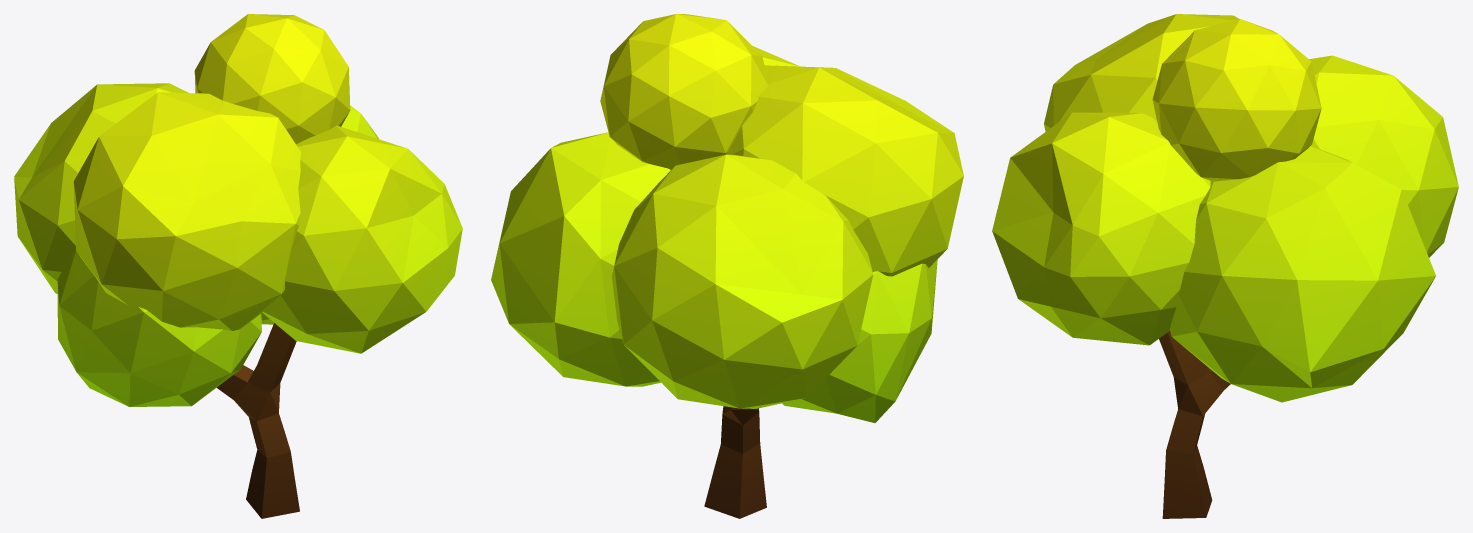
The picture shows the model from 3 angles, left to right: view 1: azimuth 30°, elevation 25°; view 2: azimuth 150°, elevation 25°; view 3: azimuth 270°, elevation 25°; orthographic projection. The views are drawn at different scales.
Parts seen in each view (by area): view 1: Object_39; view 2: Object_39; view 3: Object_39.
Boxes of the visible parts, <box> form: Object_39: <box>14,14,462,518</box>; Object_39: <box>491,14,963,518</box>; Object_39: <box>992,14,1458,518</box>.
Size of the model in its own units: 0.8247 by 1.03 by 0.8764.
Materials: 1 (1 with a texture image).
